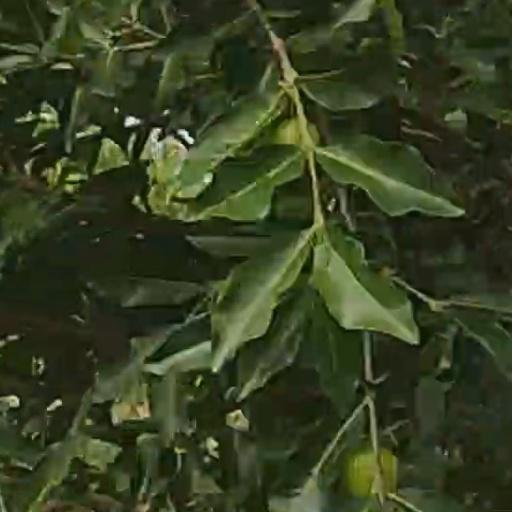acerola_verde: (349, 449, 396, 494)
